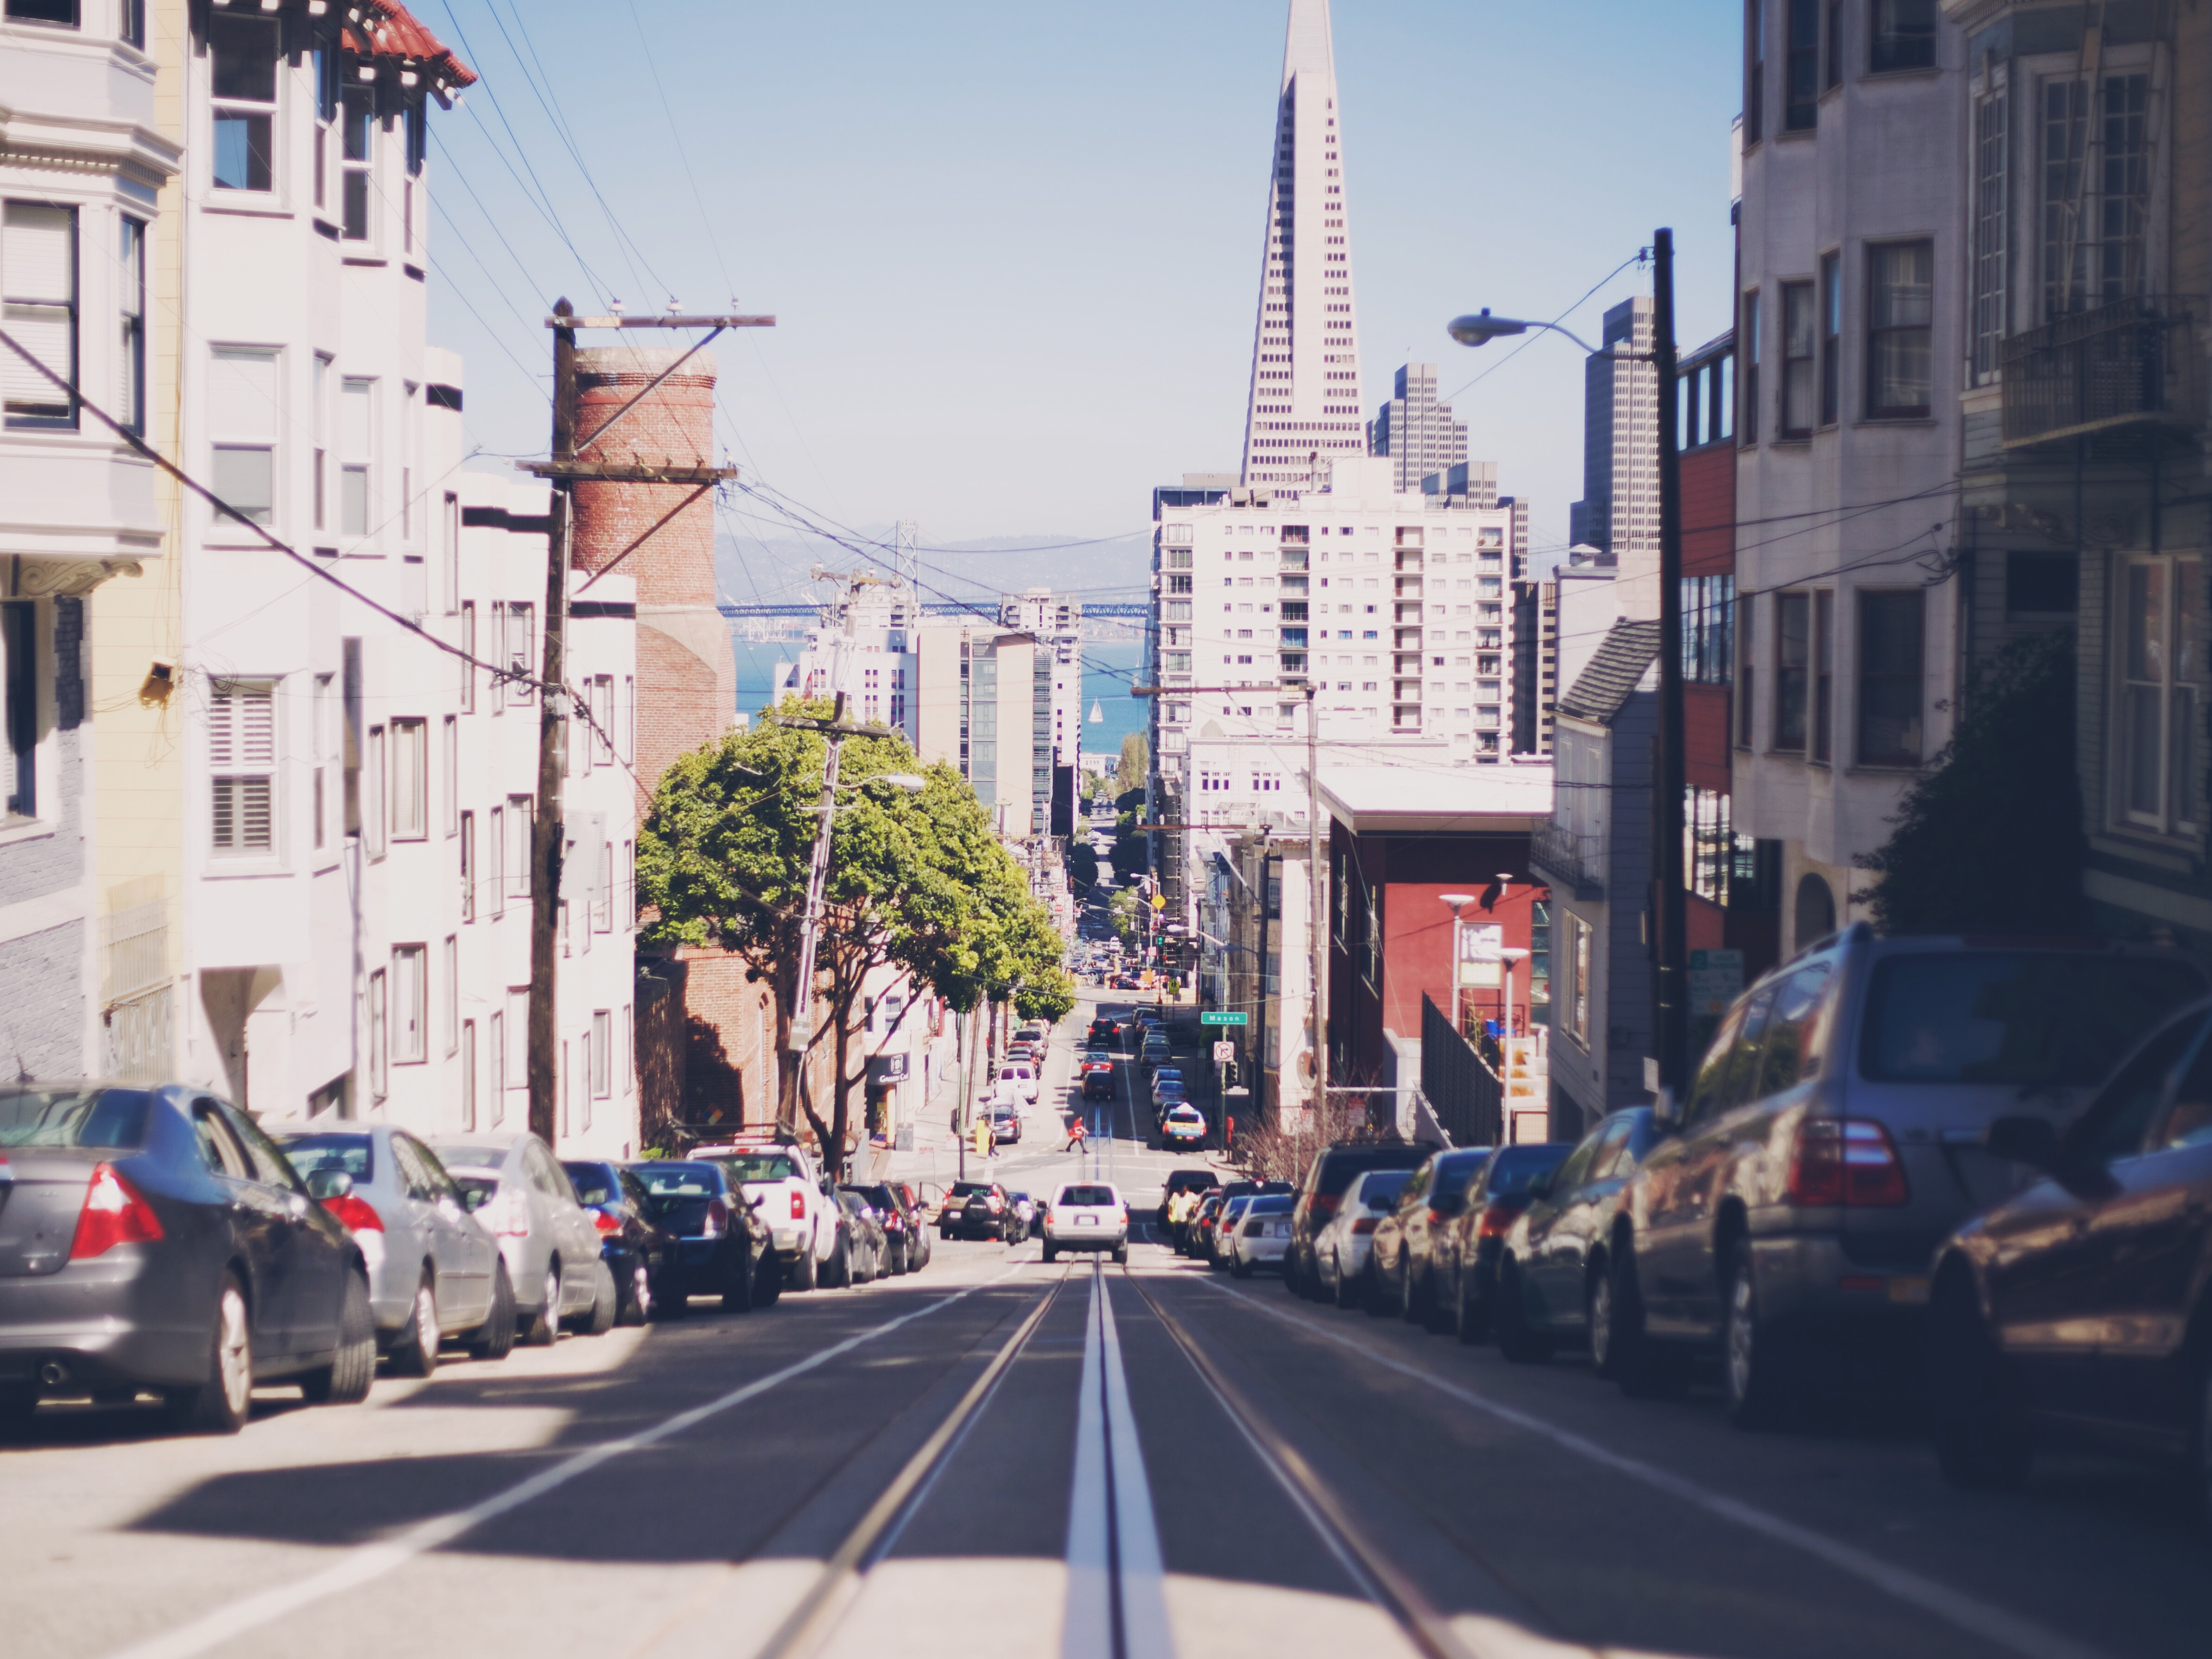tree: (631, 687, 978, 1187)
